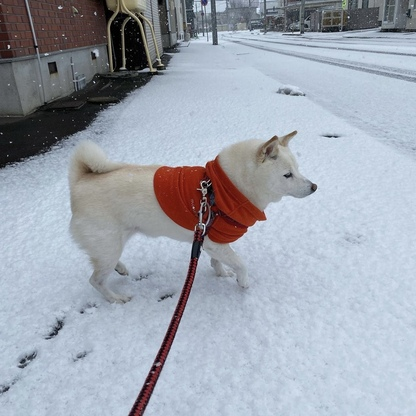shiba: (55, 125, 328, 307)
